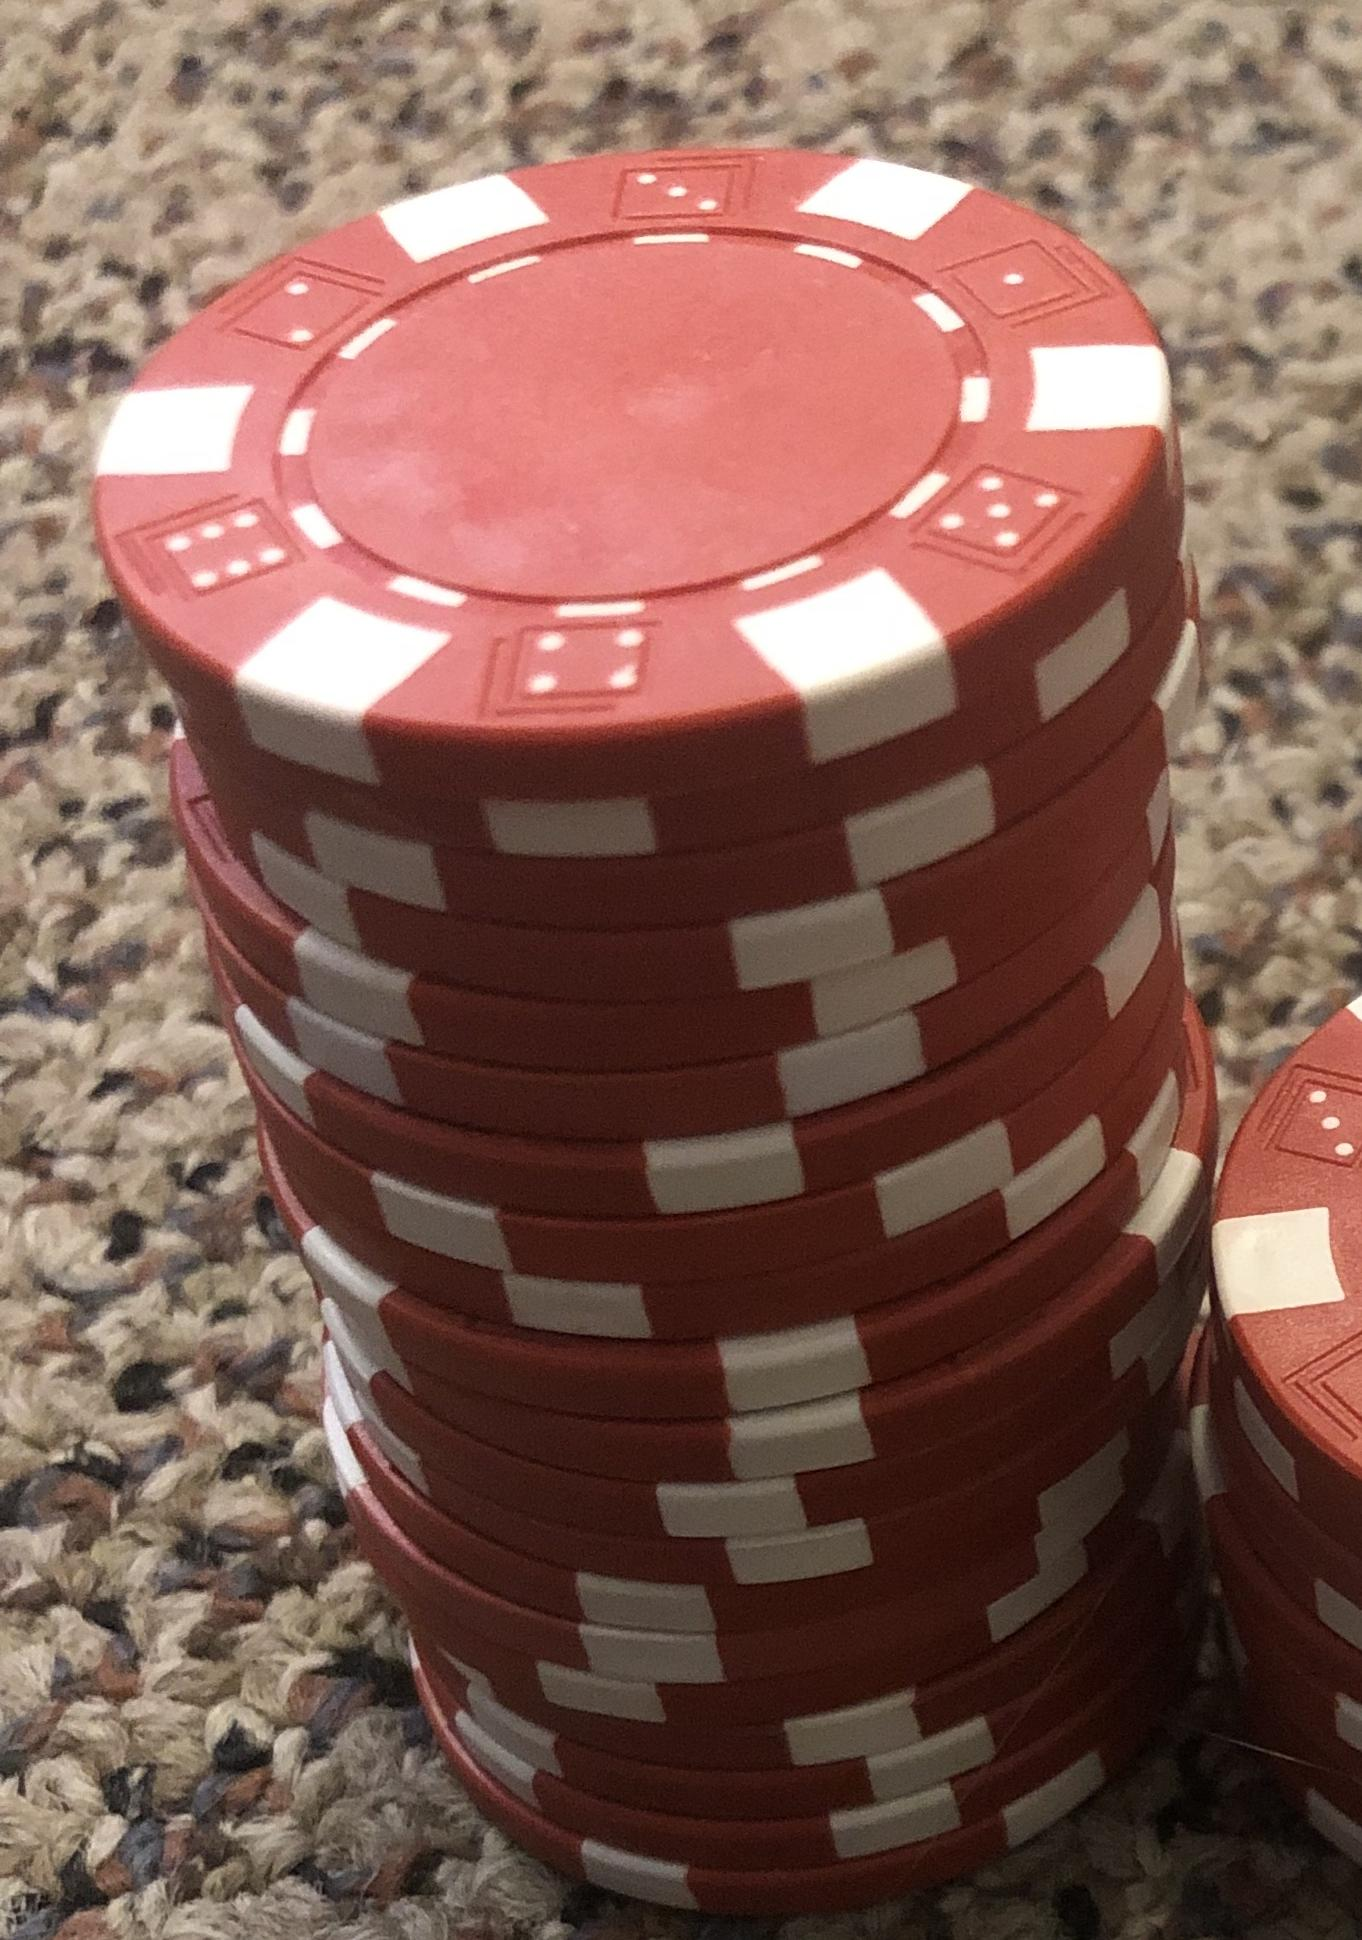Chip: (1, 1, 1362, 1940)
